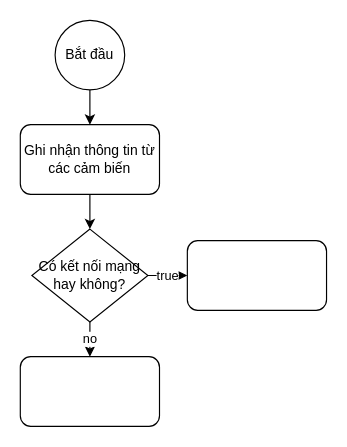
Image size: 347x447. Some labels were removed from this diagram. Here are the shapes that lost their labels. From the top down, the centre of each, then its label:
the point at 256,275: Lấy model mới từ internet
the point at 89,391: Lấy model được nhúng trong mạch
